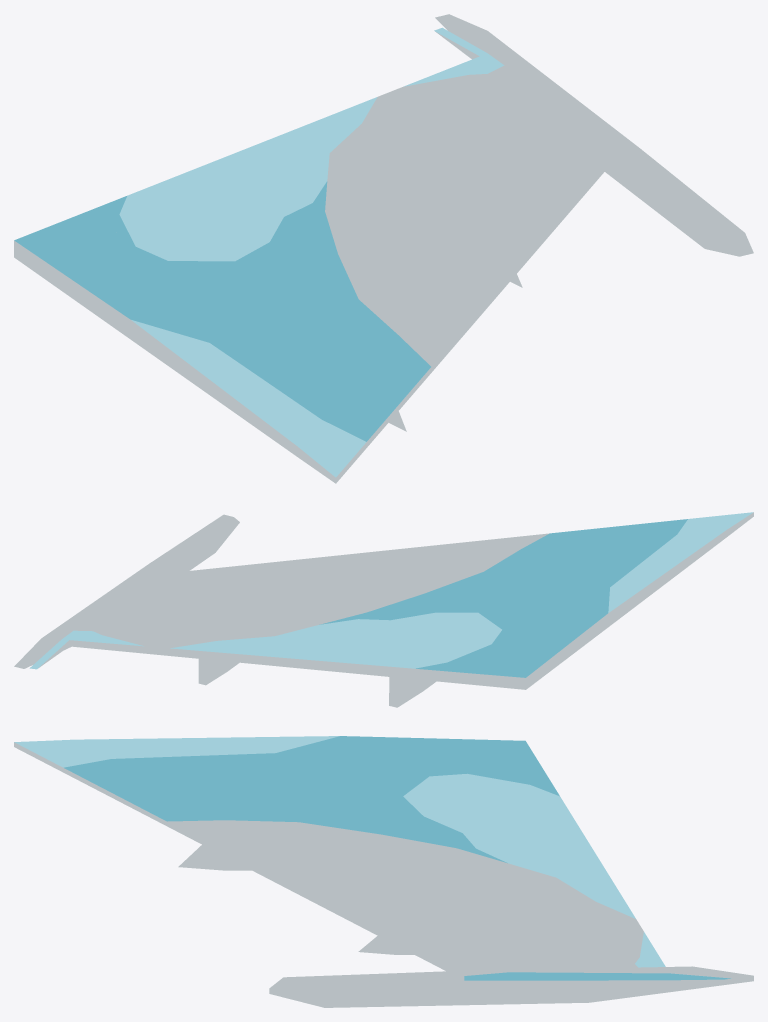
Rendered from su33_surf_BWingLFold_fold.gltf.
The picture shows the model from 3 angles, top to bottom: view 1: azimuth 30°, elevation 25°; view 2: azimuth 150°, elevation 25°; view 3: azimuth 270°, elevation 25°; orthographic projection. The views are drawn at different scales.
Visible parts, largest first — view 1: 0_2_#bacdd8, 0_0_#3396bb, 0_1_#73cdec; view 2: 0_2_#bacdd8, 0_0_#3396bb, 0_1_#73cdec; view 3: 0_2_#bacdd8, 0_0_#3396bb, 0_1_#73cdec.
Part boxes in pixels (x1,y1,x2,y2): 0_2_#bacdd8: (14, 14, 753, 483); 0_0_#3396bb: (14, 181, 430, 441); 0_1_#73cdec: (119, 27, 504, 477); 0_2_#bacdd8: (14, 512, 753, 707); 0_0_#3396bb: (319, 519, 687, 677); 0_1_#73cdec: (29, 512, 753, 669); 0_2_#bacdd8: (14, 742, 753, 1007); 0_0_#3396bb: (64, 736, 730, 980); 0_1_#73cdec: (14, 736, 731, 978).
Bounding box in the file's own units: 3.62 × 0.4779 × 5.04.
